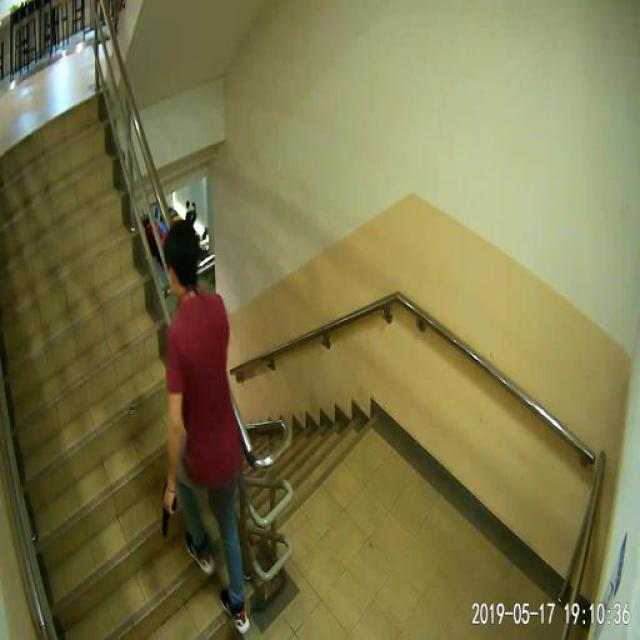Gun: (161, 484, 175, 535)
